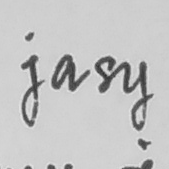a: (49, 51, 78, 94)
j: (17, 52, 46, 130)
s: (91, 53, 117, 95)
y: (119, 57, 152, 134)
